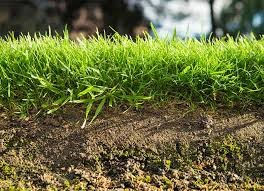dirt: (2, 106, 261, 188)
grass: (0, 32, 260, 102)
